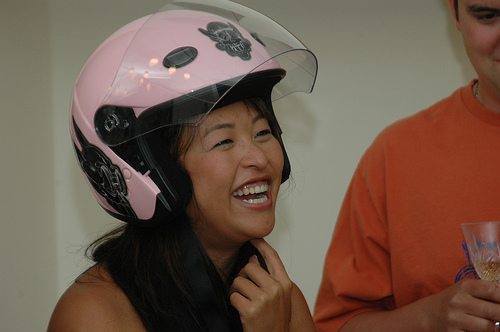helmet: (48, 14, 339, 216)
